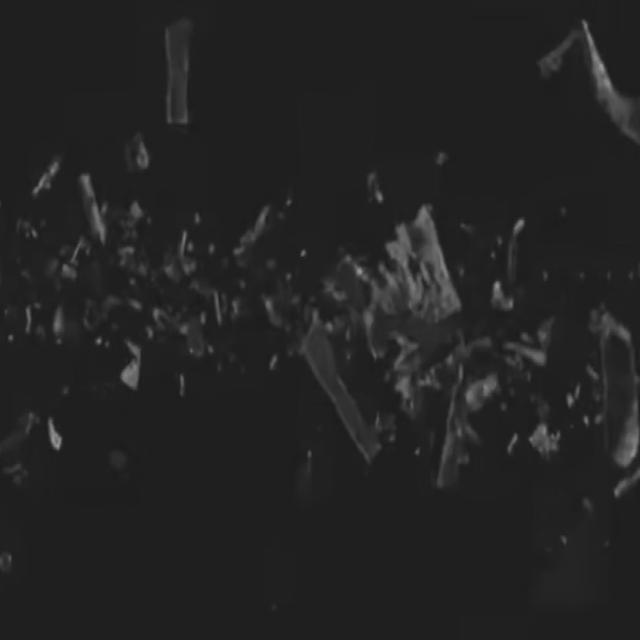large_debris: (583, 294, 640, 510), (532, 18, 630, 136), (298, 335, 377, 471), (374, 196, 454, 326), (434, 372, 505, 494), (147, 23, 199, 147), (486, 199, 533, 324), (167, 300, 211, 412), (223, 205, 274, 278), (74, 156, 109, 256), (38, 296, 78, 382), (110, 329, 144, 427), (386, 336, 418, 432), (498, 329, 552, 384), (520, 415, 565, 472), (26, 149, 60, 219), (40, 410, 70, 472)
